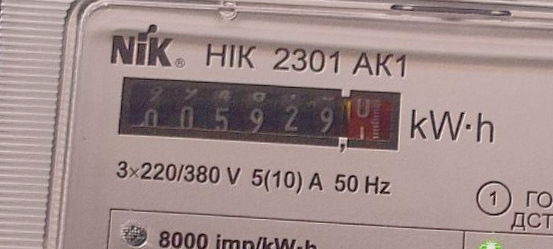0: (177, 103, 197, 132), (141, 104, 162, 127), (354, 96, 374, 120)
2: (281, 101, 301, 135)
5: (212, 104, 231, 133)
9: (245, 104, 267, 135), (317, 104, 337, 136), (146, 84, 165, 102)
screen: (112, 71, 409, 160)
